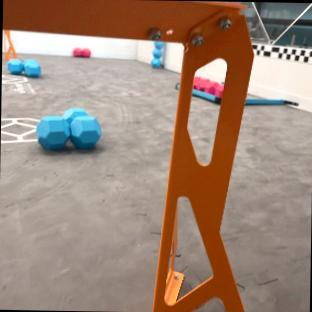V5_BLUE: (35, 107, 101, 149), (7, 59, 41, 76), (151, 41, 163, 66)
V5_RED: (193, 76, 222, 96), (81, 48, 90, 57), (73, 47, 81, 55)
